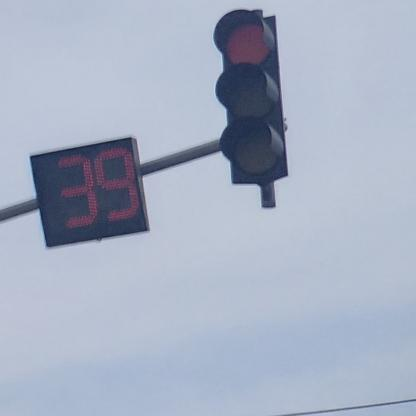red: (211, 9, 288, 184)
